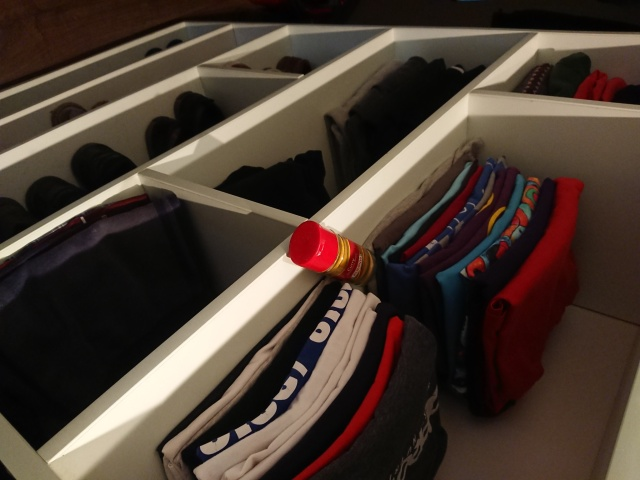Kotanyi Curry Spices Mix 70g: (286, 219, 379, 287)
